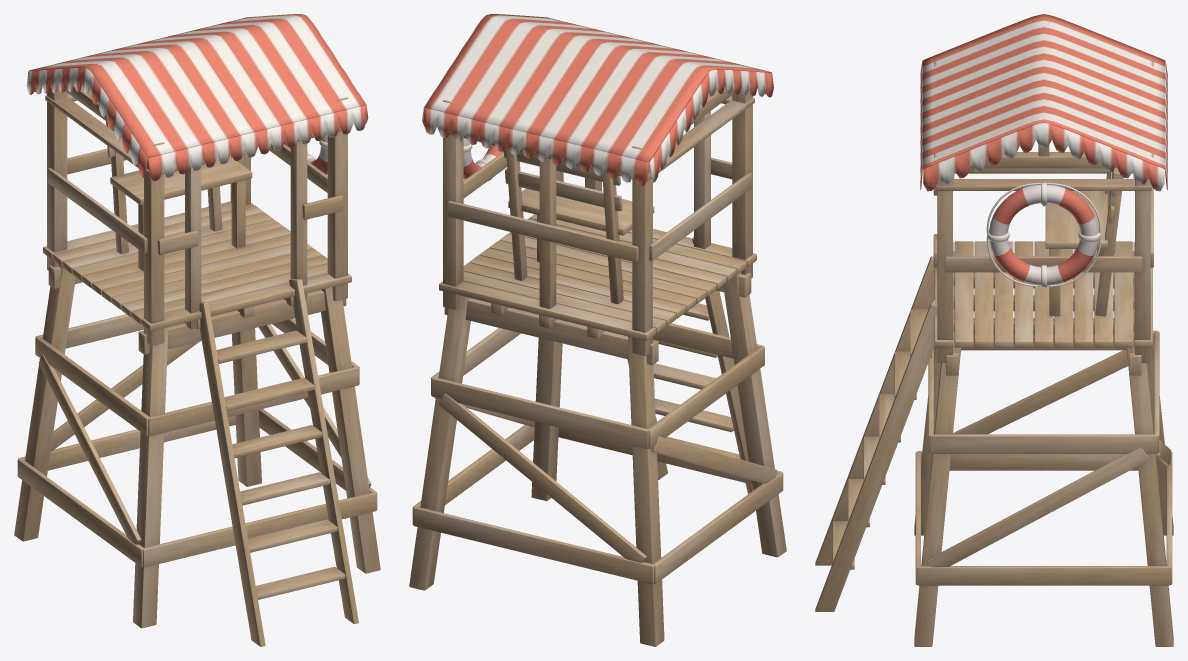
Rendered from lifeguard-tower-2EDXMP55.glb.
The picture shows the model from 3 angles, left to right: view 1: azimuth 30°, elevation 25°; view 2: azimuth 150°, elevation 25°; view 3: azimuth 270°, elevation 25°; orthographic projection. The views are drawn at different scales.
Visible parts, largest first — view 1: lifeguard-tower_body; view 2: lifeguard-tower_body; view 3: lifeguard-tower_body.
Part boxes in pixels (x1=…): lifeguard-tower_body: x1=14, y1=14, x2=380, y2=646; lifeguard-tower_body: x1=409, y1=14, x2=786, y2=646; lifeguard-tower_body: x1=815, y1=14, x2=1173, y2=646.
Size of the model in its own units: 1.54 by 3.14 by 1.96.
Materials: 1 (1 with a texture image).
